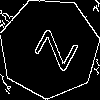Z: (24, 23, 79, 72)
